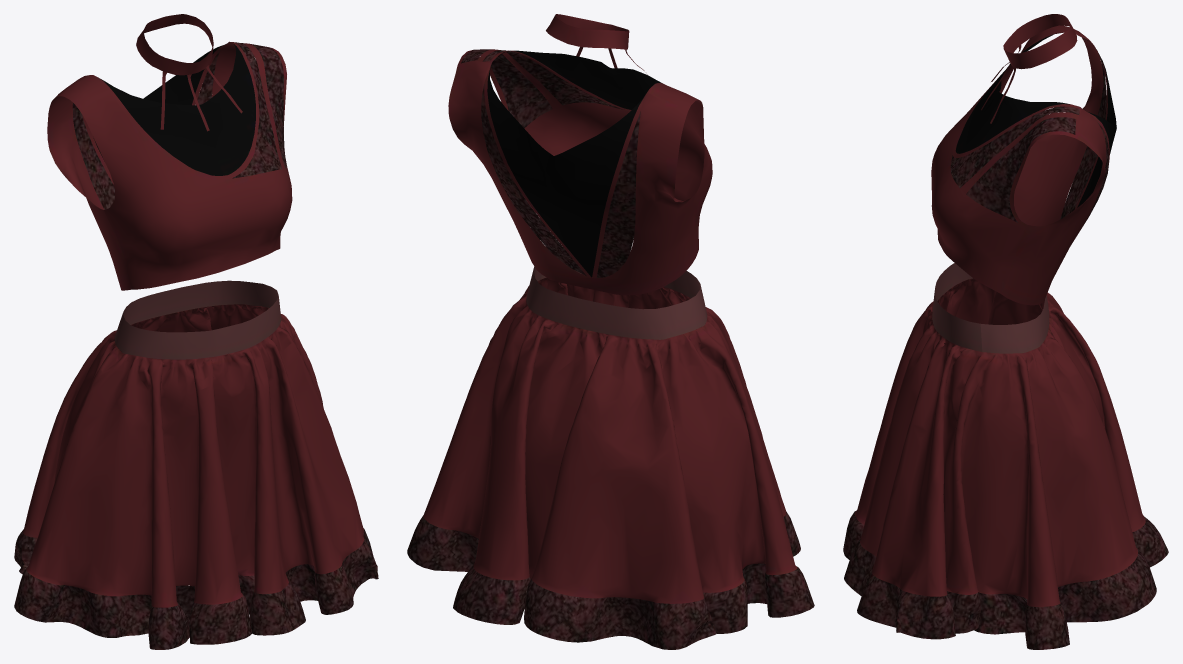
Rendered from dress_velvet.glb.
The picture shows the model from 3 angles, left to right: view 1: azimuth 30°, elevation 25°; view 2: azimuth 150°, elevation 25°; view 3: azimuth 270°, elevation 25°; orthographic projection. The views are drawn at different scales.
Visible parts, largest first — view 1: Cloth; view 2: Cloth; view 3: Cloth.
Boxes of the visible parts, x1,y1,x2,y2 form: Cloth: (14, 14, 378, 649); Cloth: (407, 14, 814, 649); Cloth: (843, 14, 1168, 649).
Bounding box in the file's own units: 55.13 × 83.45 × 43.85.
Materials: 1 (1 with a texture image).
